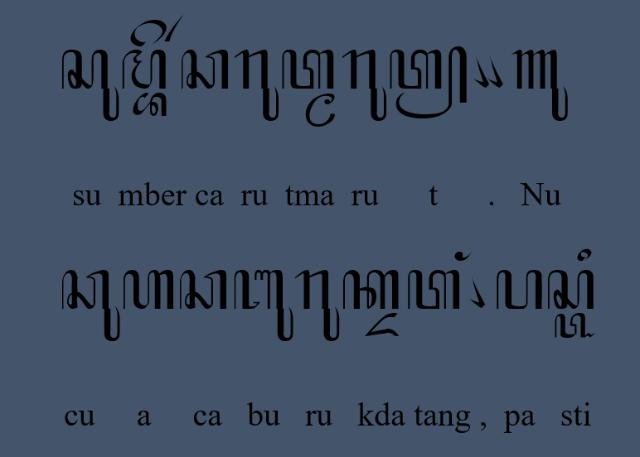-t: (388, 45, 469, 120)
Nu: (511, 49, 569, 122)
_b: (132, 91, 168, 119)
_d: (364, 312, 401, 340)
_m: (304, 92, 336, 130)
_r1: (165, 15, 185, 43)
_t: (554, 312, 596, 340)
bu: (233, 268, 295, 342)
c: (179, 48, 231, 90), (178, 268, 228, 310)
cu: (61, 268, 121, 342)
e: (130, 18, 168, 48)
h: (122, 268, 176, 311)
i: (575, 248, 593, 262)
k: (342, 268, 400, 311)
kom: (468, 275, 486, 309), (472, 55, 490, 87), (487, 55, 503, 89)
m: (120, 48, 168, 90)
ng: (454, 250, 472, 262)
p: (496, 268, 544, 310)
ru: (293, 268, 341, 344), (233, 47, 280, 123), (342, 48, 388, 121)
s: (546, 269, 596, 311)
su: (60, 46, 120, 121)
t: (406, 268, 462, 311), (280, 48, 336, 90)
